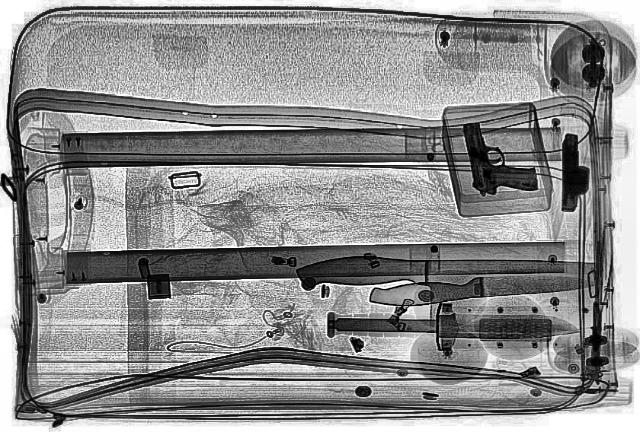Gun: (456, 118, 538, 196), (556, 133, 592, 211)
Knife: (293, 255, 601, 333), (365, 268, 603, 308), (333, 311, 581, 341)
